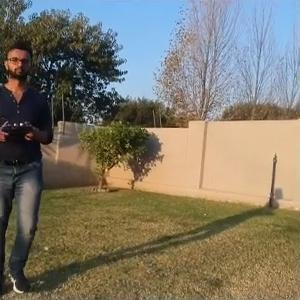follow: (1, 32, 55, 298)
